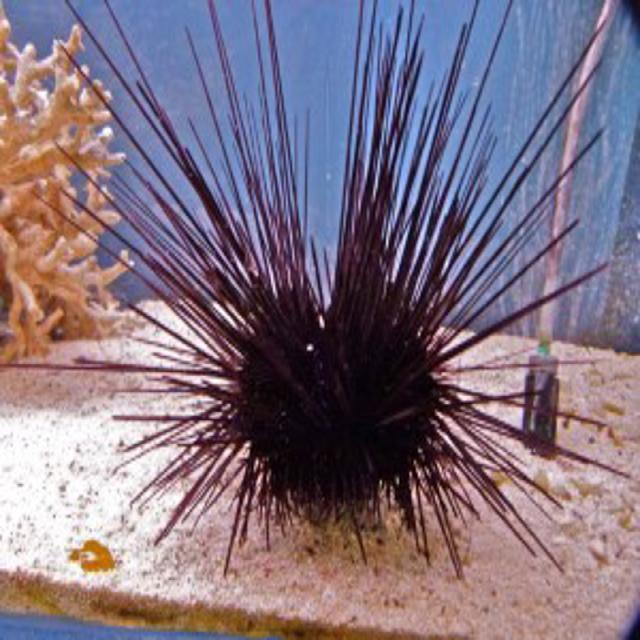Urchin: (19, 1, 602, 579)
